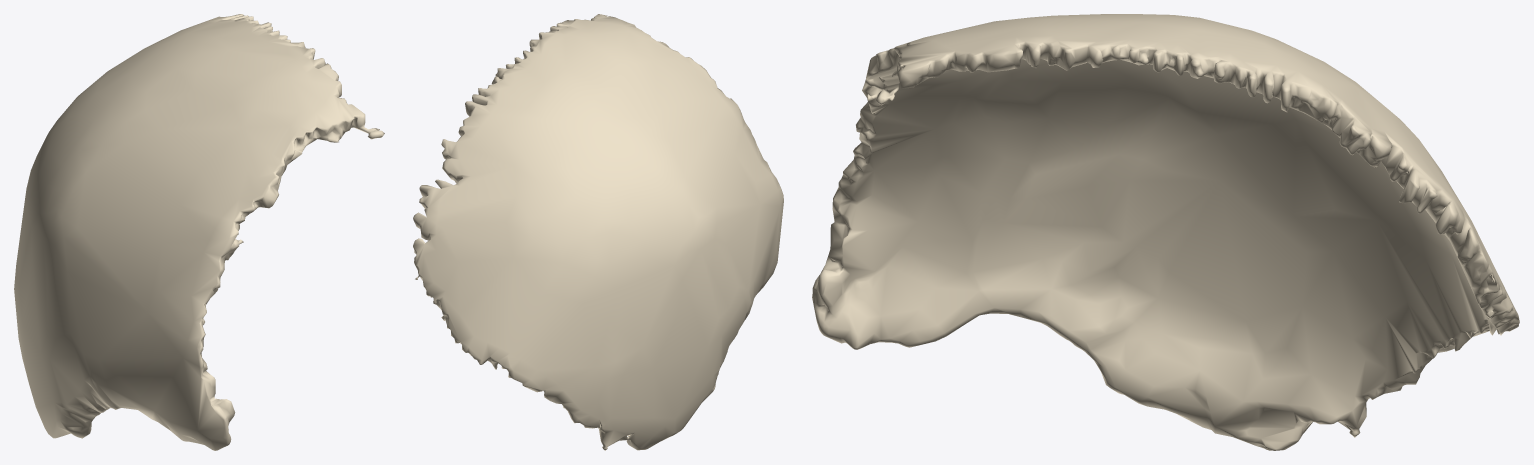
The model's file is parietal-bone-r.glb.
The picture shows the model from 3 angles, left to right: view 1: azimuth 30°, elevation 25°; view 2: azimuth 150°, elevation 25°; view 3: azimuth 270°, elevation 25°; orthographic projection. The views are drawn at different scales.
Parts seen in each view (by area): view 1: Parietal bone.r; view 2: Parietal bone.r; view 3: Parietal bone.r.
Part boxes in pixels (x1,y1,x2,y2): Parietal bone.r: (14, 14, 384, 450); Parietal bone.r: (413, 14, 783, 450); Parietal bone.r: (812, 14, 1519, 450).
Bounding box in the file's own units: 0.08 × 0.1156 × 0.1394.
